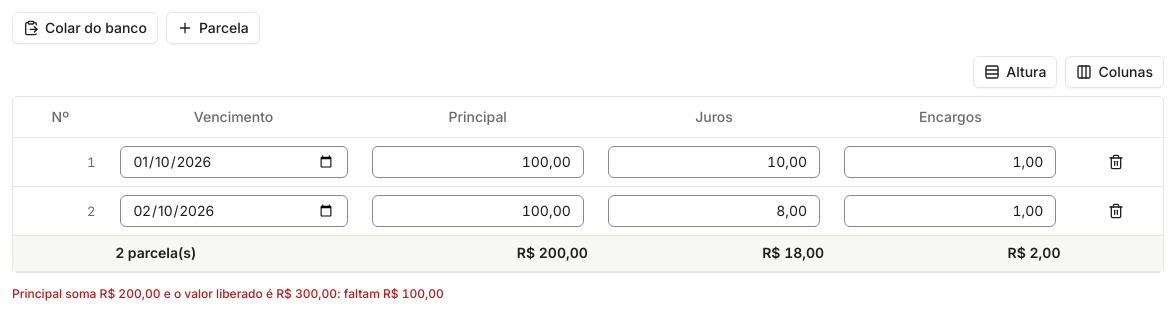
Test: CronogramaEditor › soma as colunas no total e confere com o alvo
Check: the text "2 parcela(s)" is shown, box [116, 244, 196, 261]
Check: the text "faltam" is shown, box [344, 286, 380, 300]
Step 1. Replace the text in the field named "Principal da parcela 2" with "200" → x=478, y=210, box [372, 194, 584, 226]
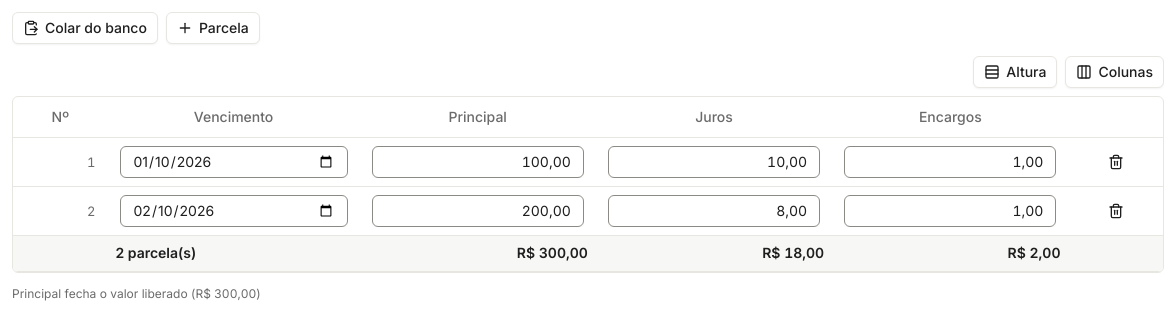
Check: the text "Principal fecha o valor liberado (R$ 300,00)" is shown, box [12, 286, 261, 300]
